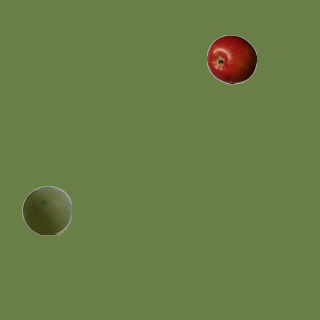Apple Braeburn: (206, 34, 256, 84)
Grape White 4: (21, 185, 71, 235)
